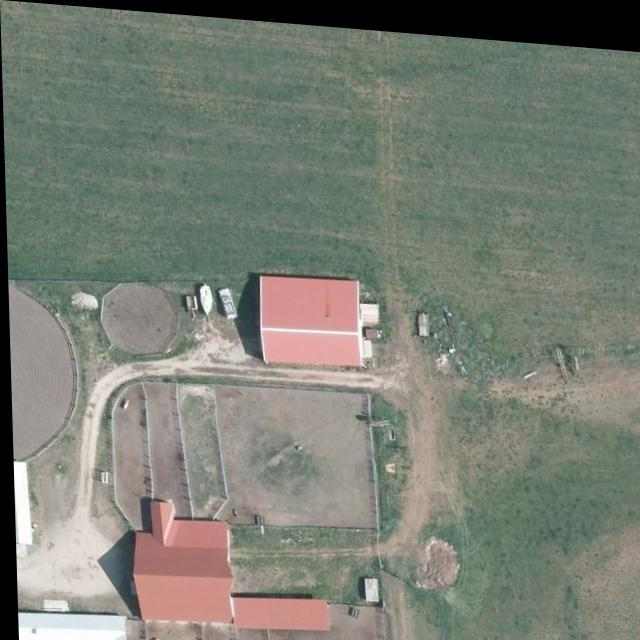vehicle: (215, 283, 237, 317)
